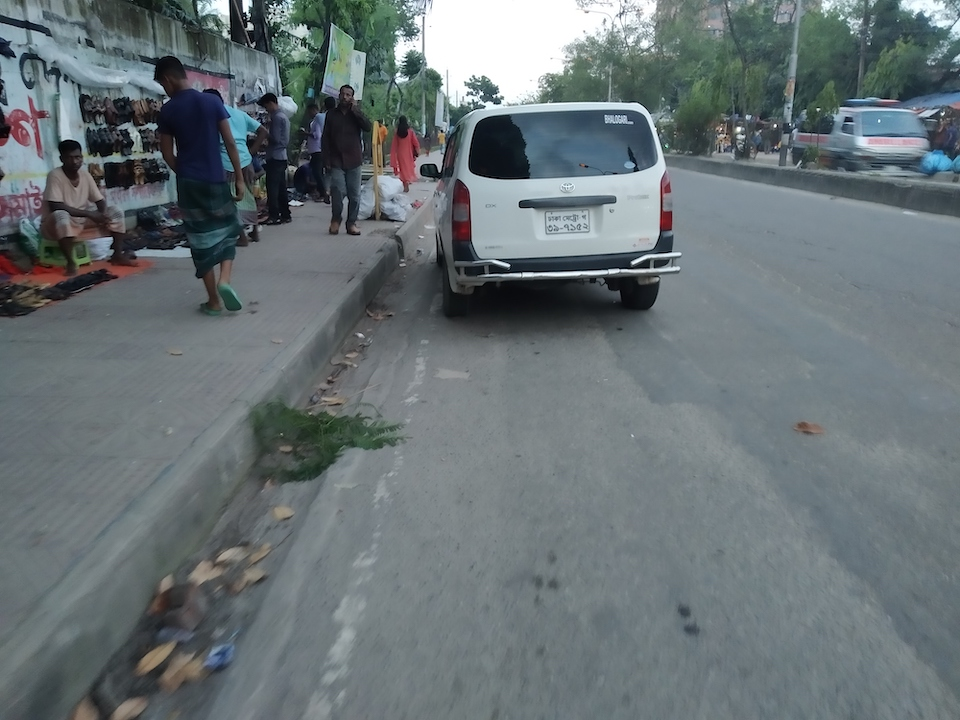registration_plate: (545, 209, 590, 233)
